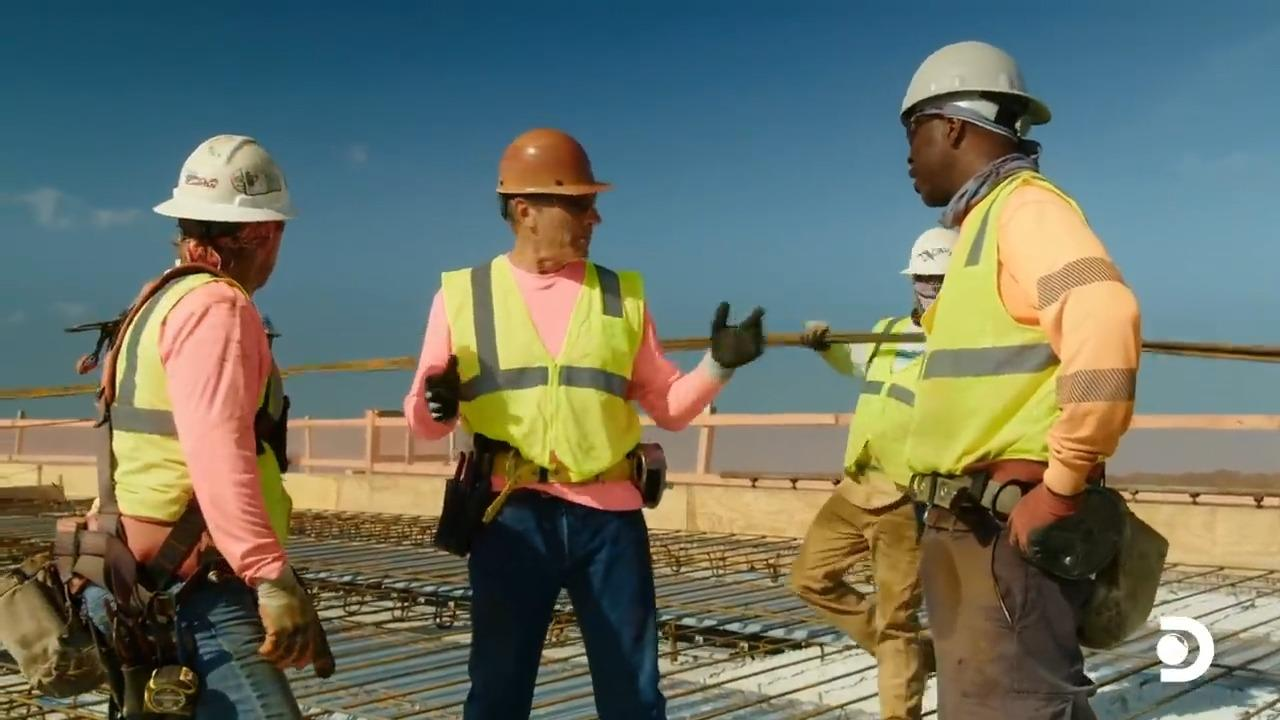Gloves: (251, 563, 325, 672), (717, 292, 774, 375), (1011, 475, 1075, 541), (428, 356, 473, 425), (804, 317, 841, 352)
Helmet: (899, 40, 1051, 139), (151, 133, 294, 223), (495, 127, 611, 196), (902, 230, 961, 283), (899, 226, 960, 276)
Person: (402, 126, 766, 719), (899, 39, 1142, 719), (63, 132, 334, 719), (790, 225, 960, 719)
Safety Vest: (458, 273, 662, 479), (117, 306, 284, 528), (945, 222, 1101, 459), (862, 335, 914, 496)
